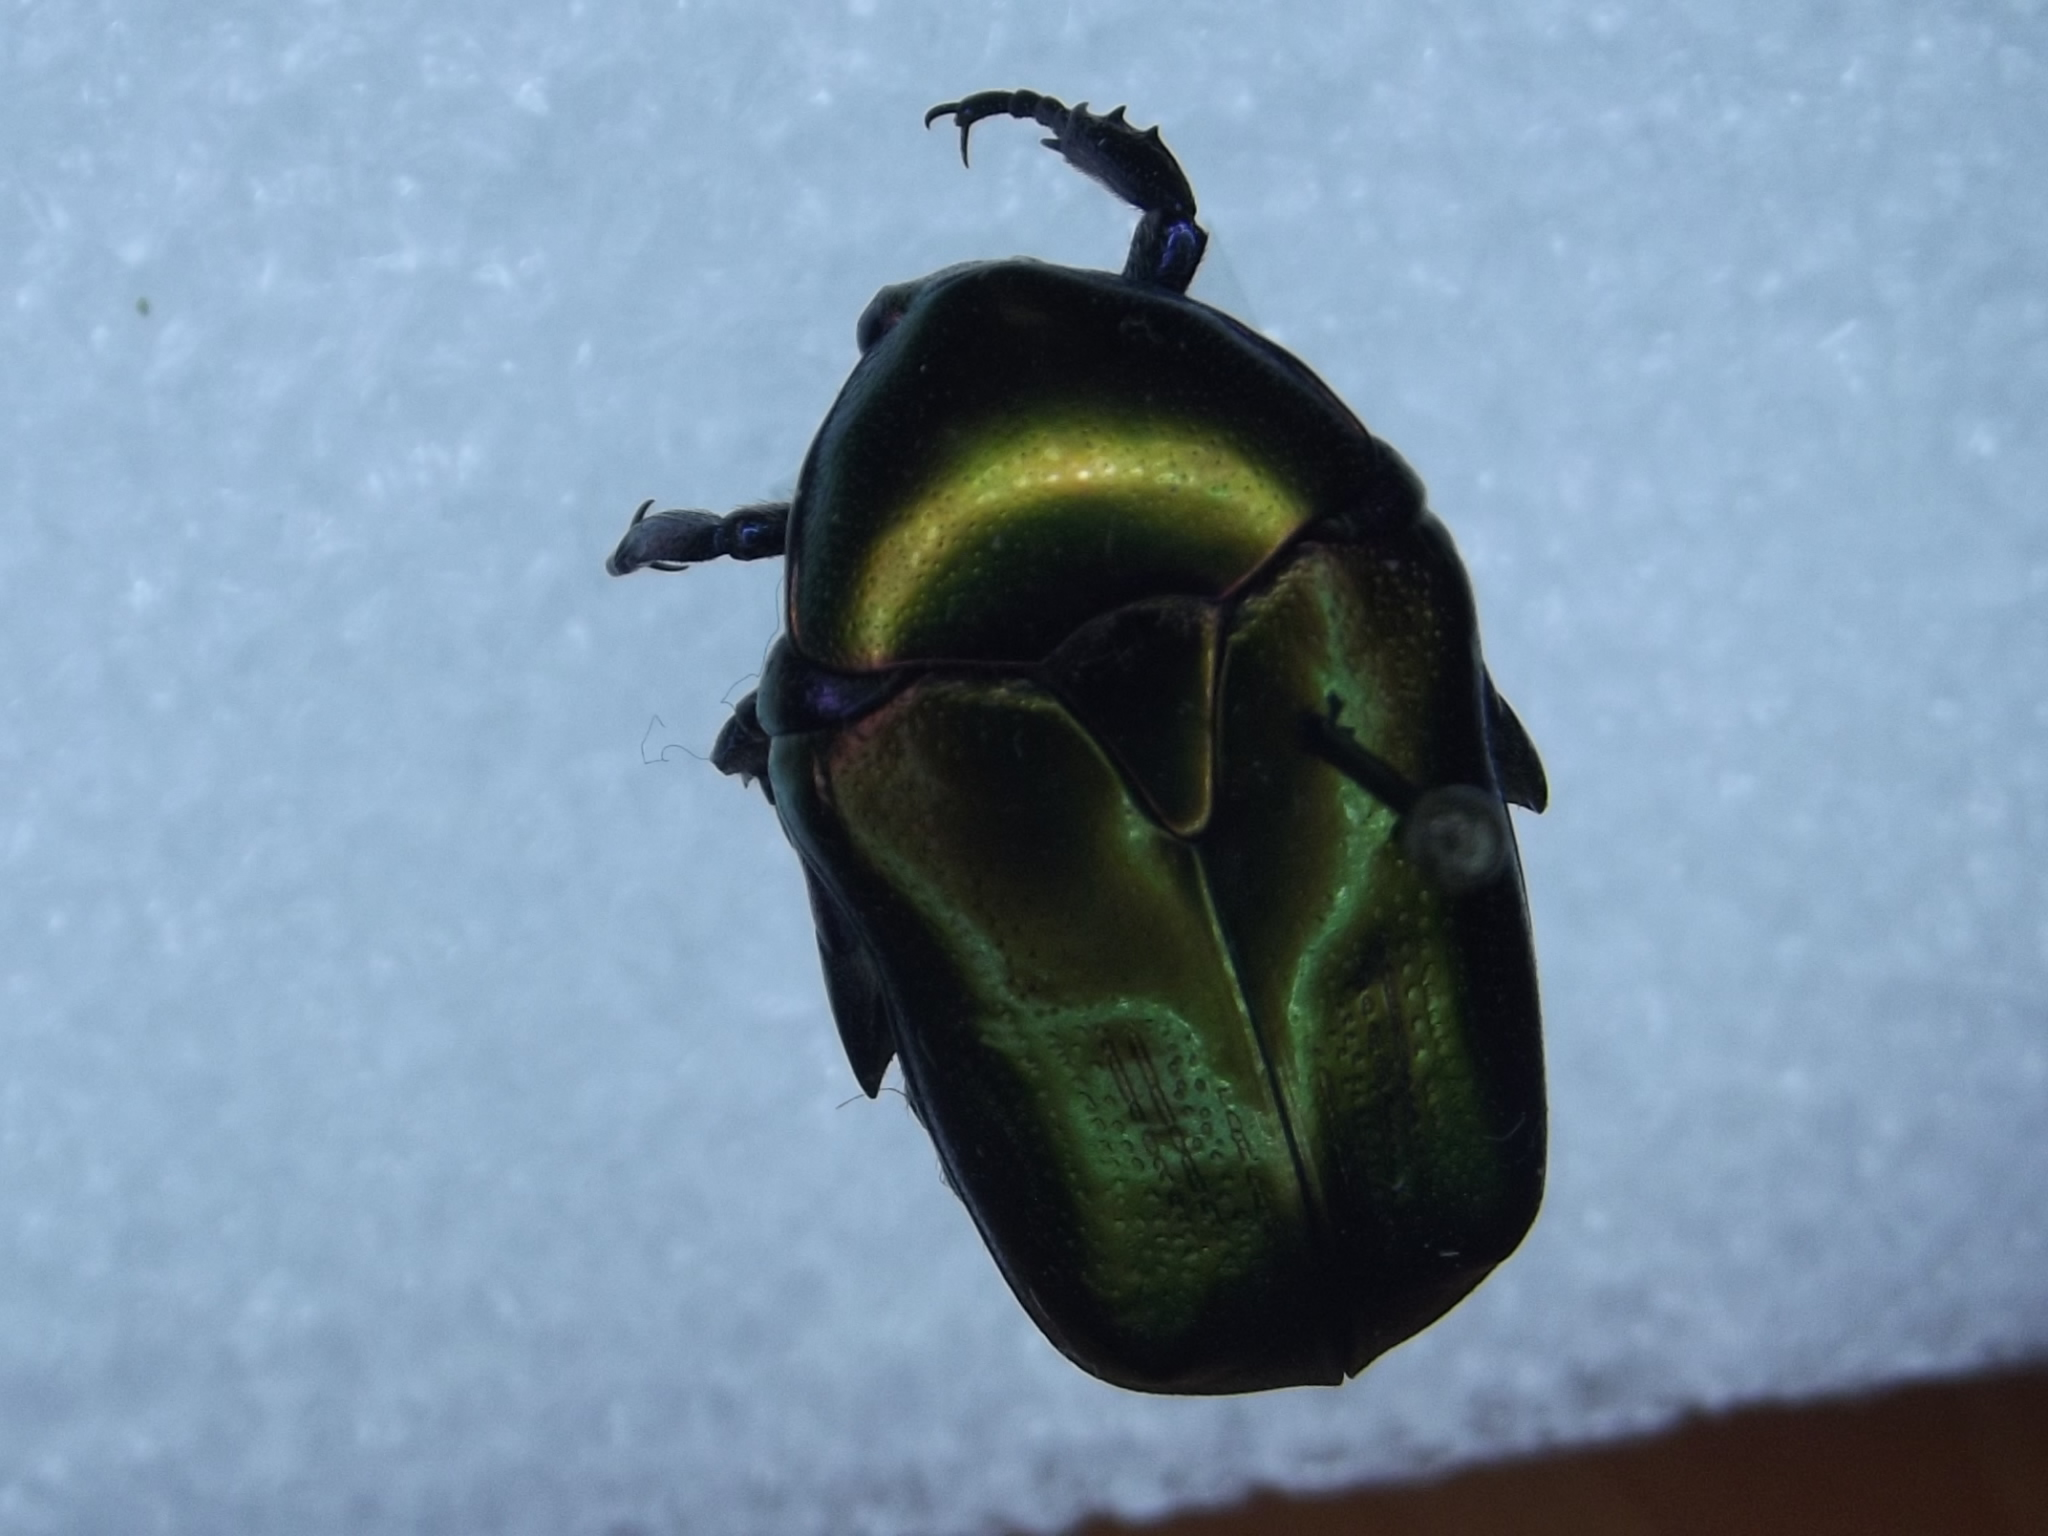Protaetia_cuprea_ignicollis: (584, 73, 1587, 1434)
